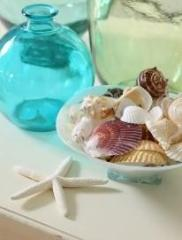glass: (0, 2, 102, 136)
